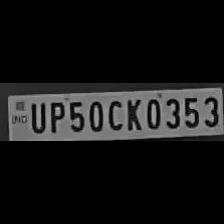0: (142, 95, 162, 129), (86, 97, 104, 132)
3: (200, 93, 220, 127), (163, 94, 181, 130)
5: (180, 94, 200, 128), (65, 99, 84, 134)
C: (104, 96, 124, 132)
K: (122, 96, 142, 132)
P: (46, 98, 64, 134)
U: (28, 99, 46, 133)
